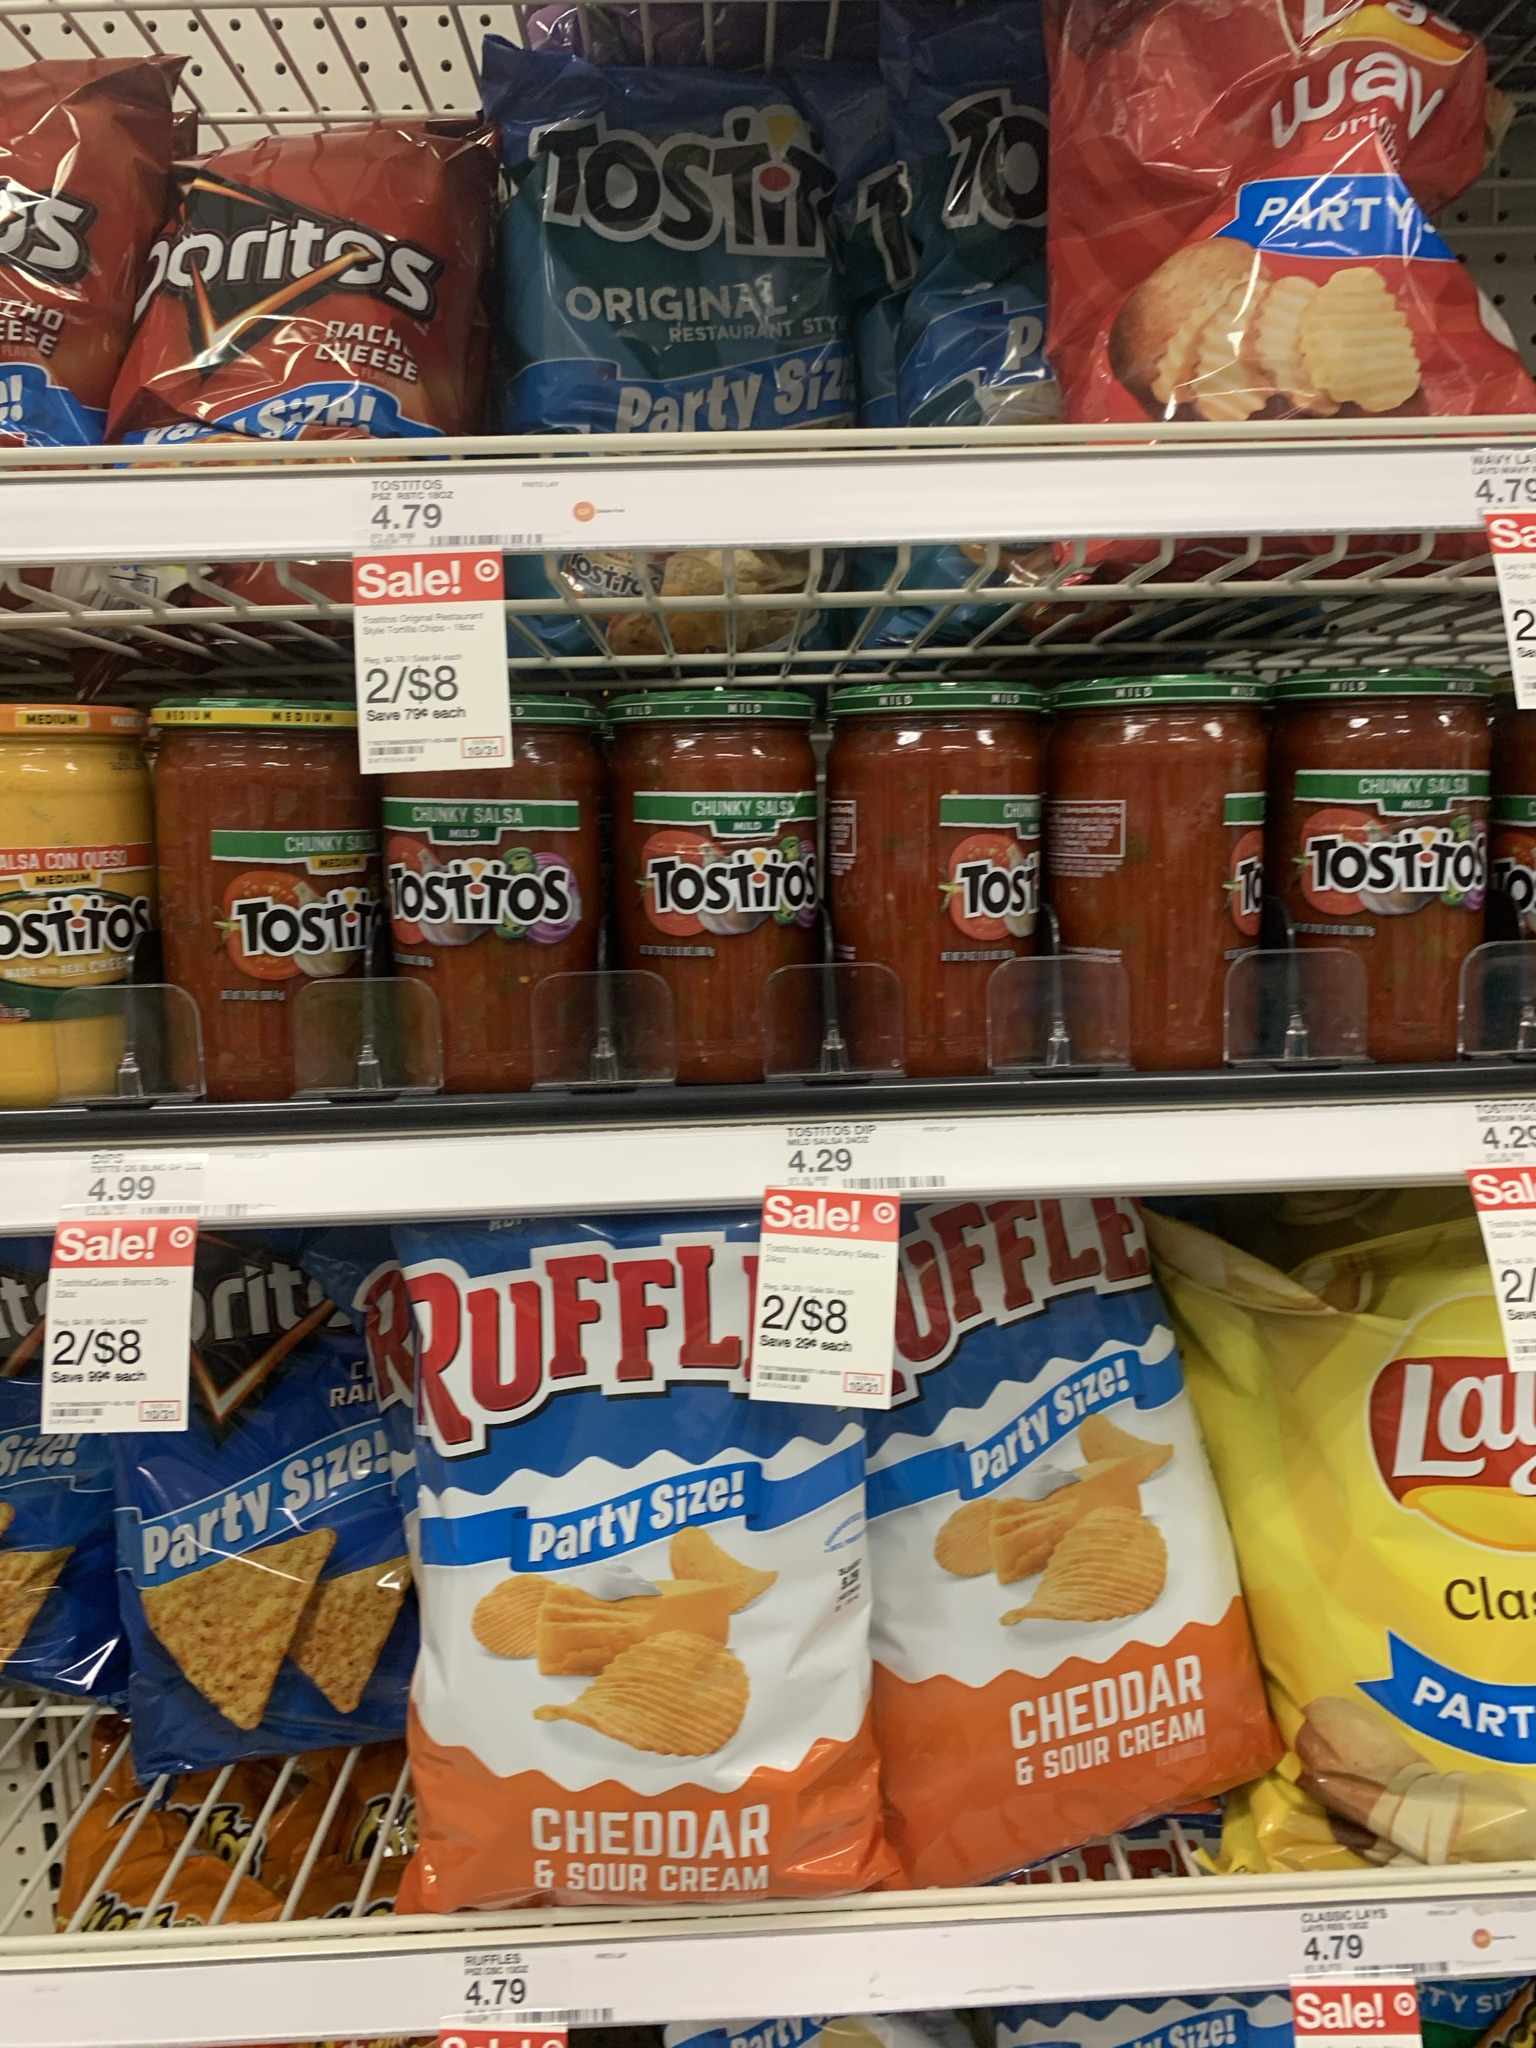doritos chips: (79, 1269, 428, 1766), (179, 147, 473, 479)
lay: (1221, 1261, 1536, 1793)
lays: (1062, 26, 1483, 443)
ruffles chips: (407, 1256, 887, 1916), (866, 1216, 1263, 1809)
tostitos chips: (497, 53, 820, 440)
